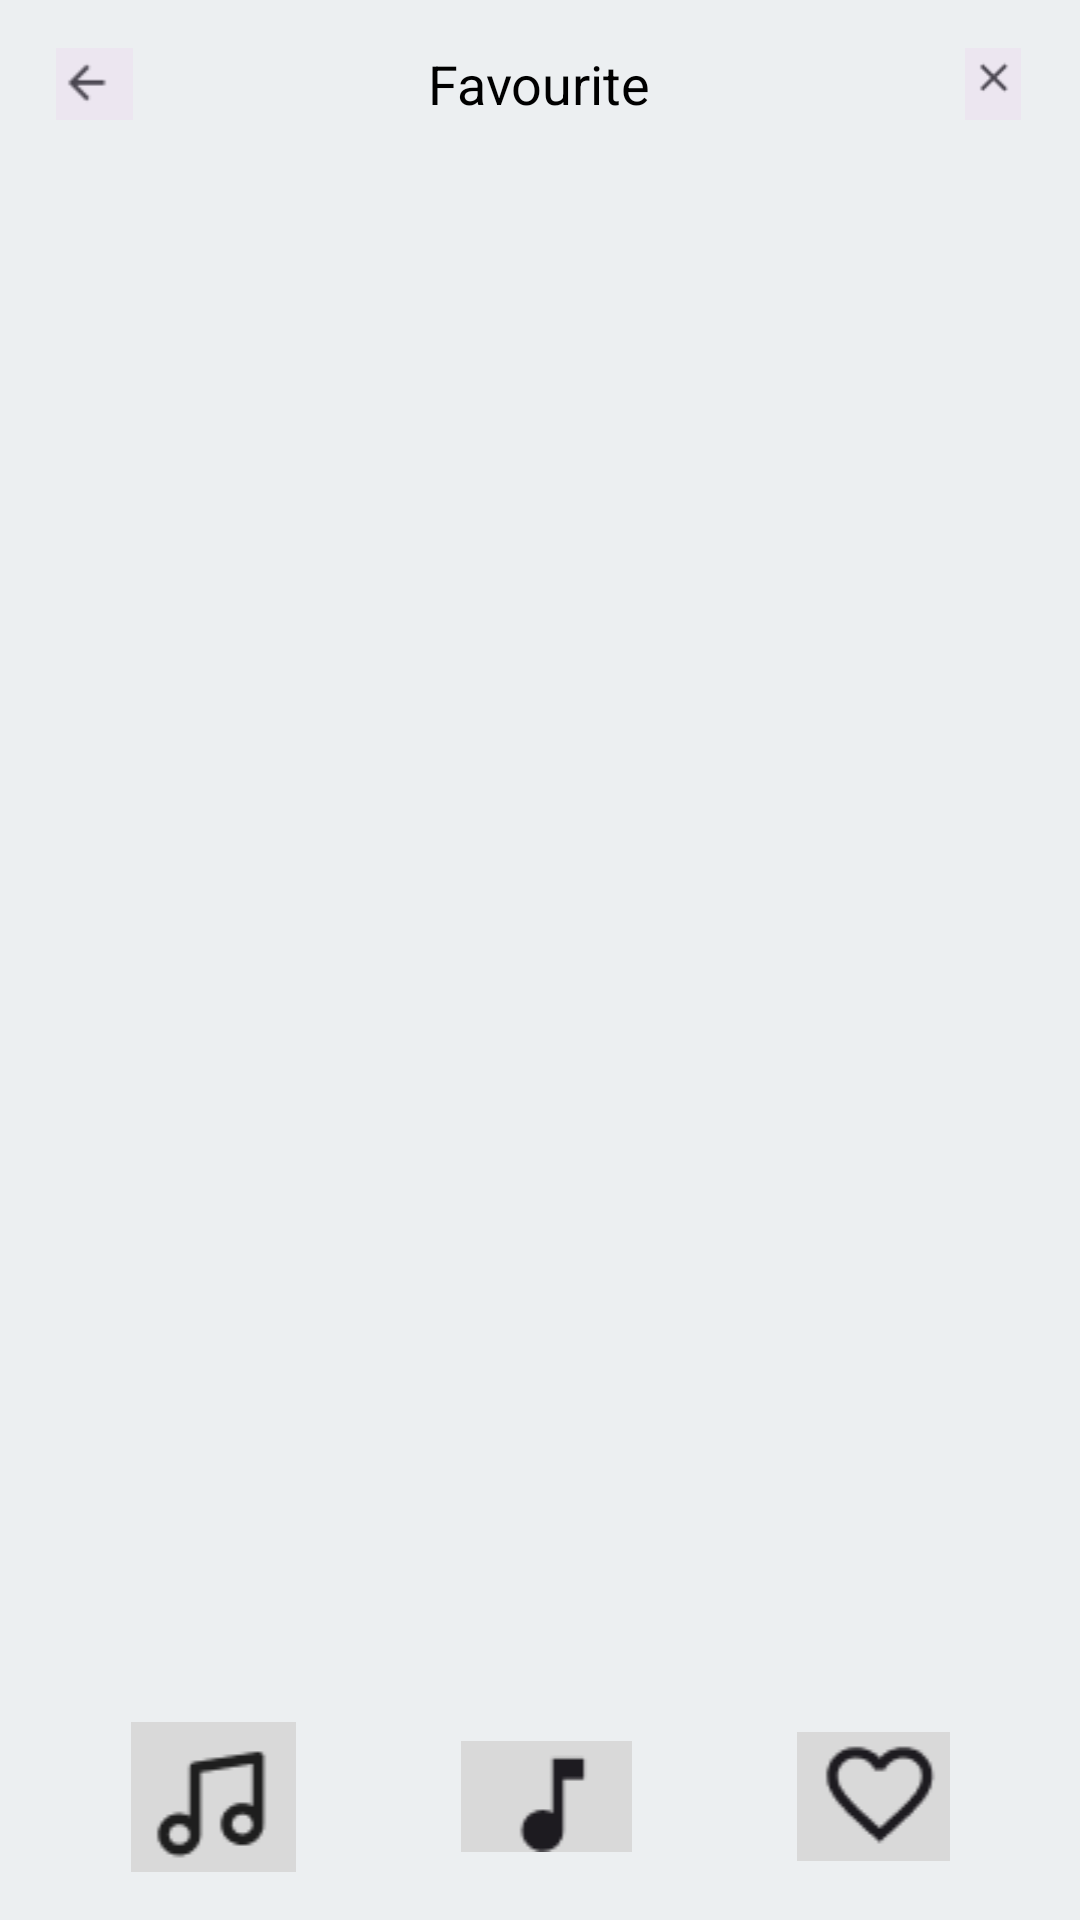

Icons on this 1080 × 1920 Android screen, each with the point to tap as [x,y]:
heart: [873,1796]
music note: [546,1796], [211,1804]
Закрыть: [994,77]
Назад: [94,84]
